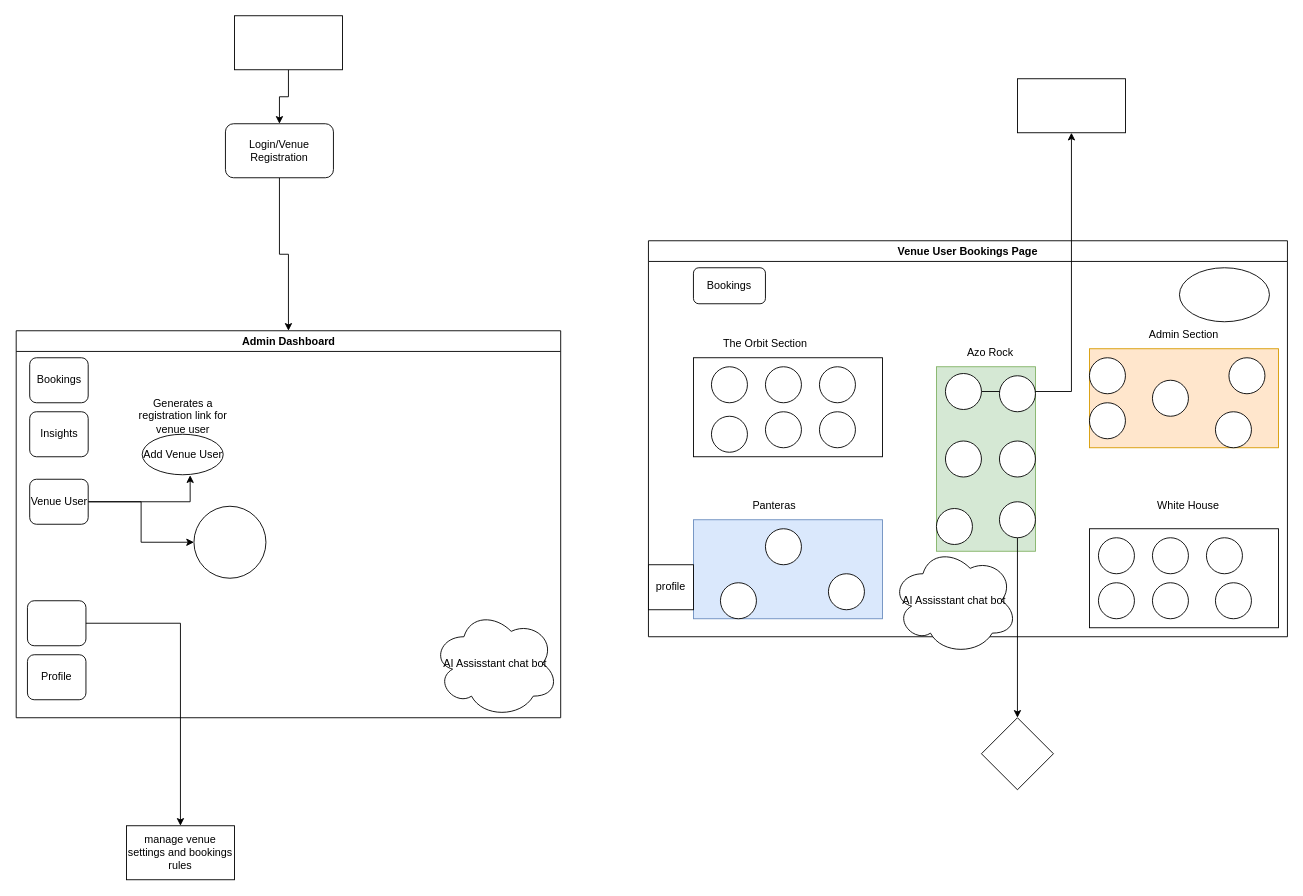
Image size: 1303x896. Some labels were removed from this diagram. Each missing label, with the centre of its shape:
"Bookng Streaks" goes at pixel 1224 294.
"Create Bookins" goes at pixel 1071 105.
"Landing Page" goes at pixel 288 42.
"Settings" goes at pixel 56 623.
"Swap" goes at pixel 1017 753.
"Venue User List" goes at pixel 229 541.
